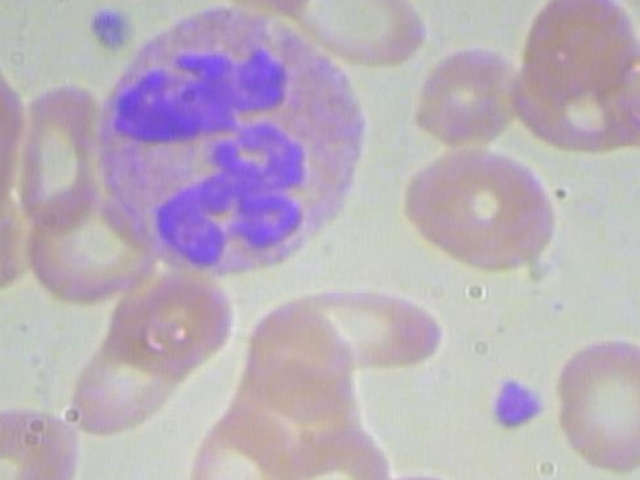Platelets: (468, 371, 551, 439), (72, 2, 134, 63)
RBC: (401, 134, 563, 280), (247, 283, 462, 368), (229, 293, 365, 411), (25, 204, 155, 317), (546, 328, 640, 473), (409, 37, 530, 141), (12, 82, 98, 226), (262, 0, 429, 73), (518, 0, 639, 85), (204, 0, 332, 19)
WBC: (99, 3, 361, 274)
